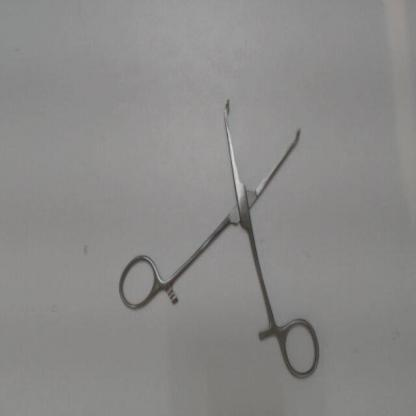Allis Tissue Forceps: (111, 88, 328, 388)
